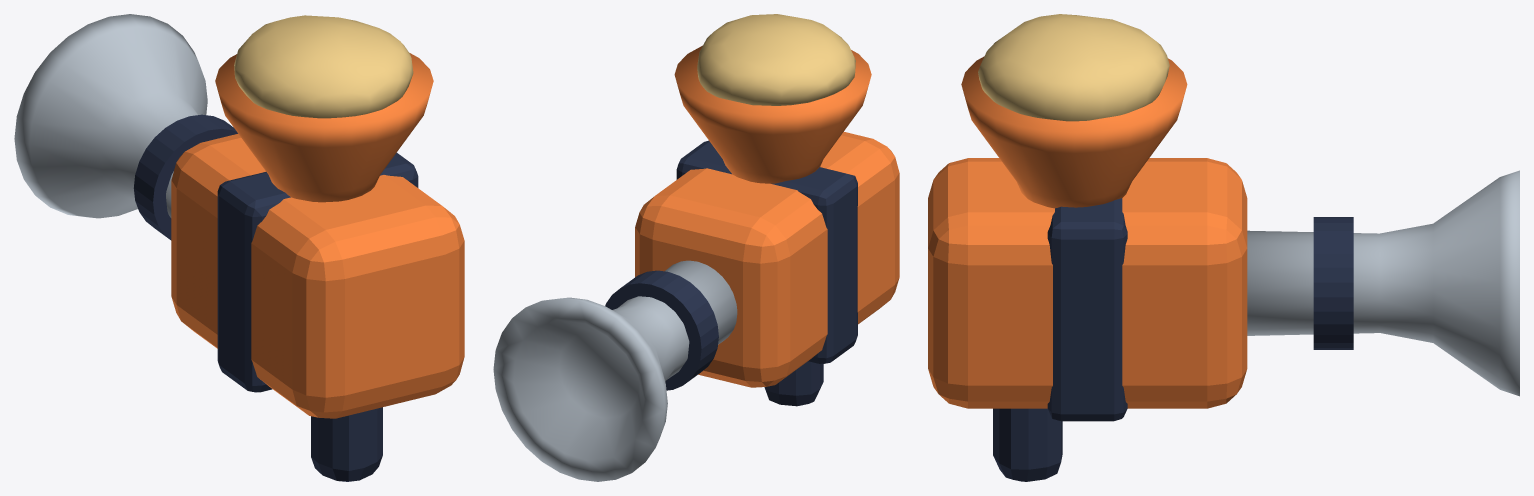
Rendered from sand_gun.glb.
3 renders of one model, left to right at view 1: azimuth 30°, elevation 25°; view 2: azimuth 150°, elevation 25°; view 3: azimuth 270°, elevation 25°, orthographic. The views are drawn at different scales.
Visible parts, largest first — view 1: sand_gun; view 2: sand_gun; view 3: sand_gun.
Boxes of the visible parts, x1=… form: sand_gun: x1=14, y1=14, x2=464, y2=481; sand_gun: x1=493, y1=14, x2=899, y2=481; sand_gun: x1=928, y1=14, x2=1519, y2=481.
Bounding box in the file's own units: 0.34 × 0.739 × 0.89.
